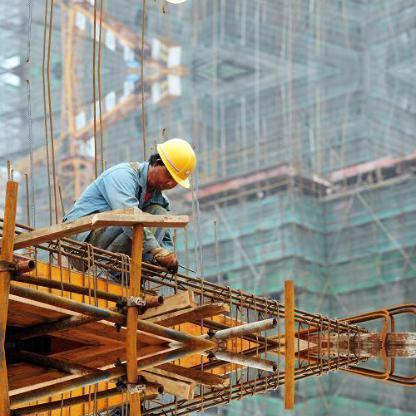helmet: (157, 133, 202, 193)
